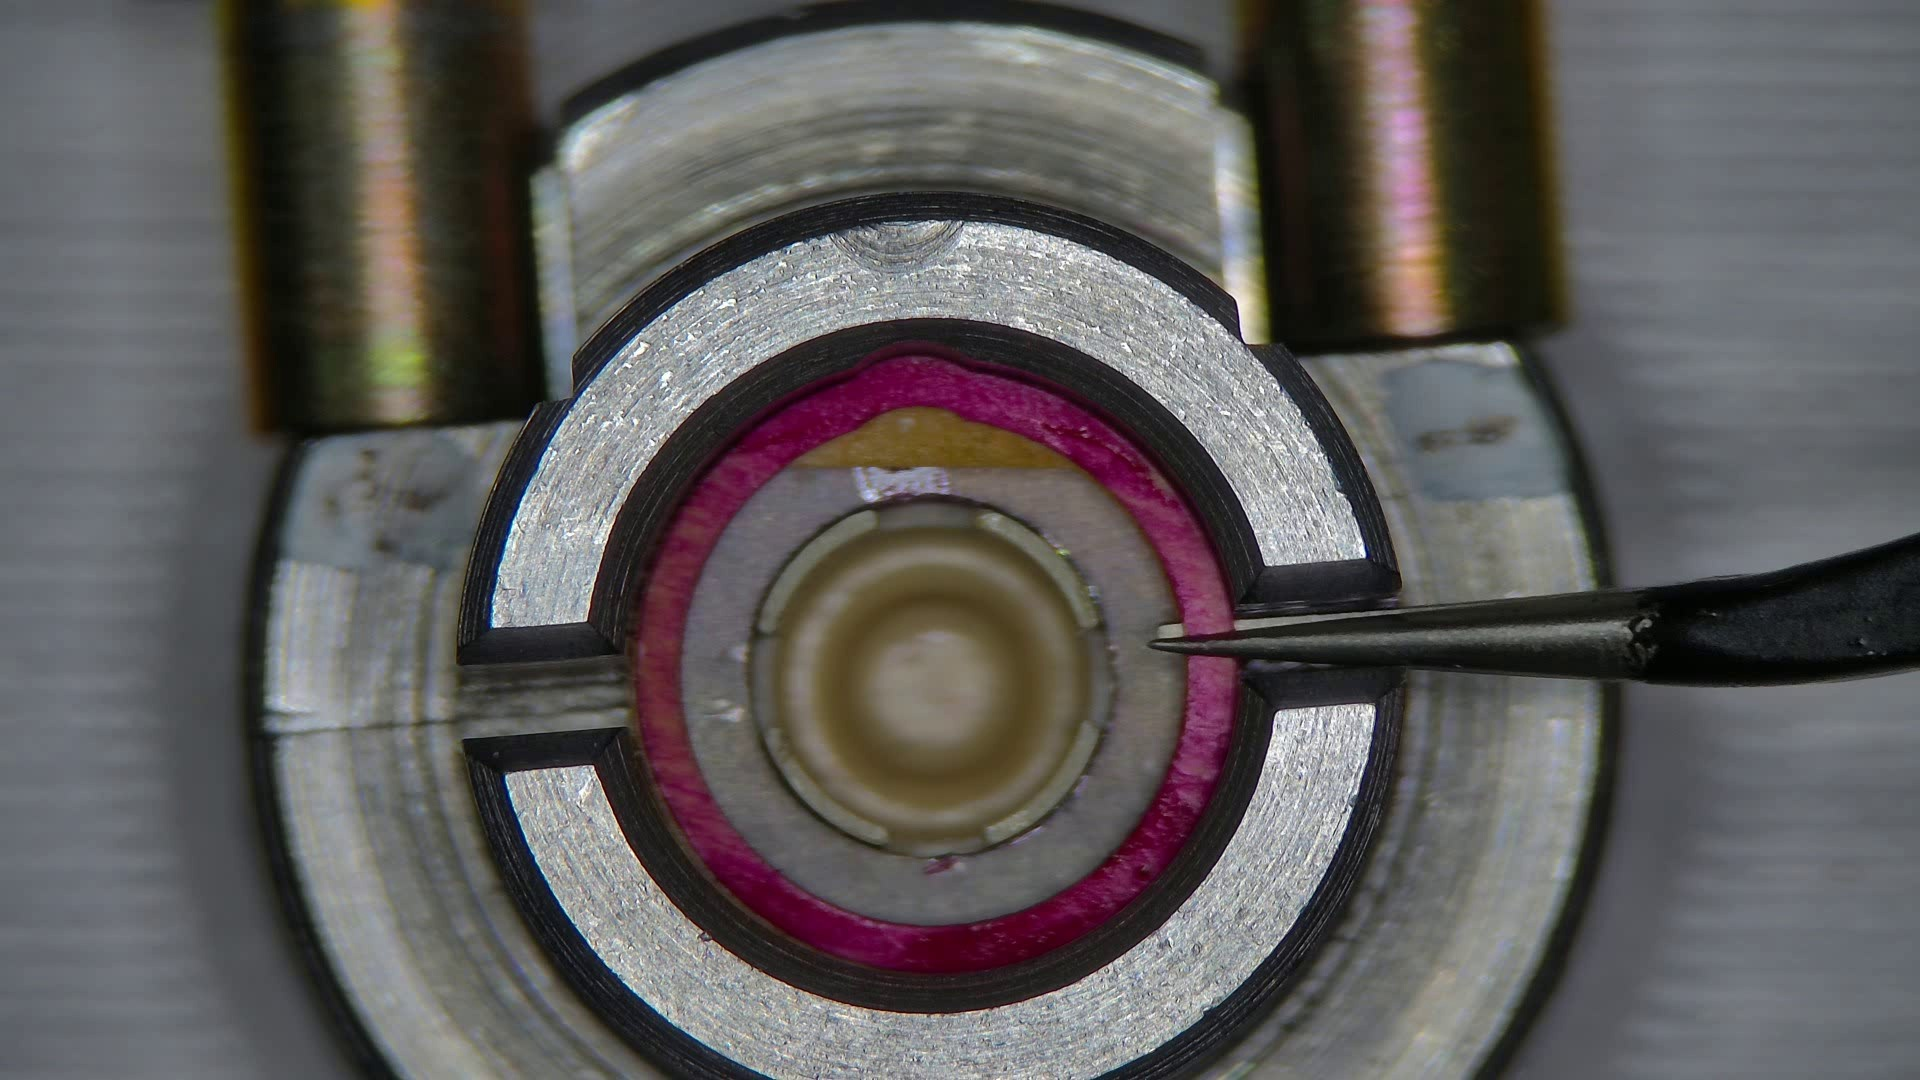GreyOring: (634, 352, 1236, 972)
YellowOring: (680, 465, 1178, 922)
redOring: (785, 407, 1081, 471)
